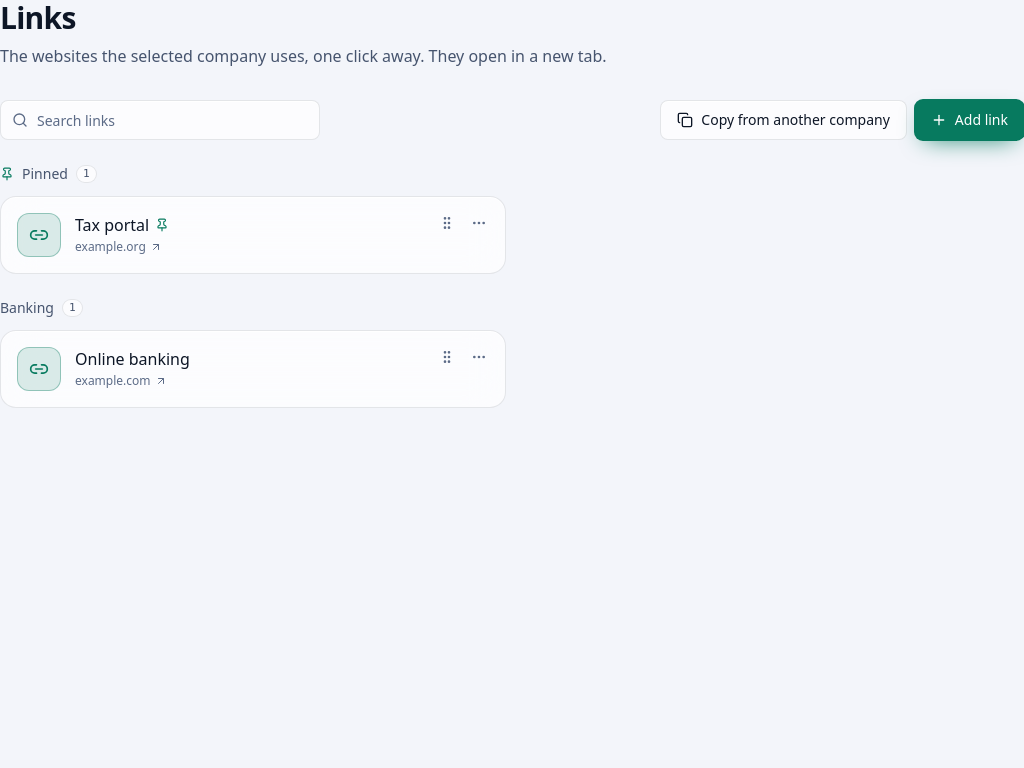
Test case: copying from another company › offers nothing to copy when every address is already here
Expected: the text "Tax portal" is shown, [75,213,149,237]
Click the button "Copy from another company" at (784, 120), box [660,100,907,140]
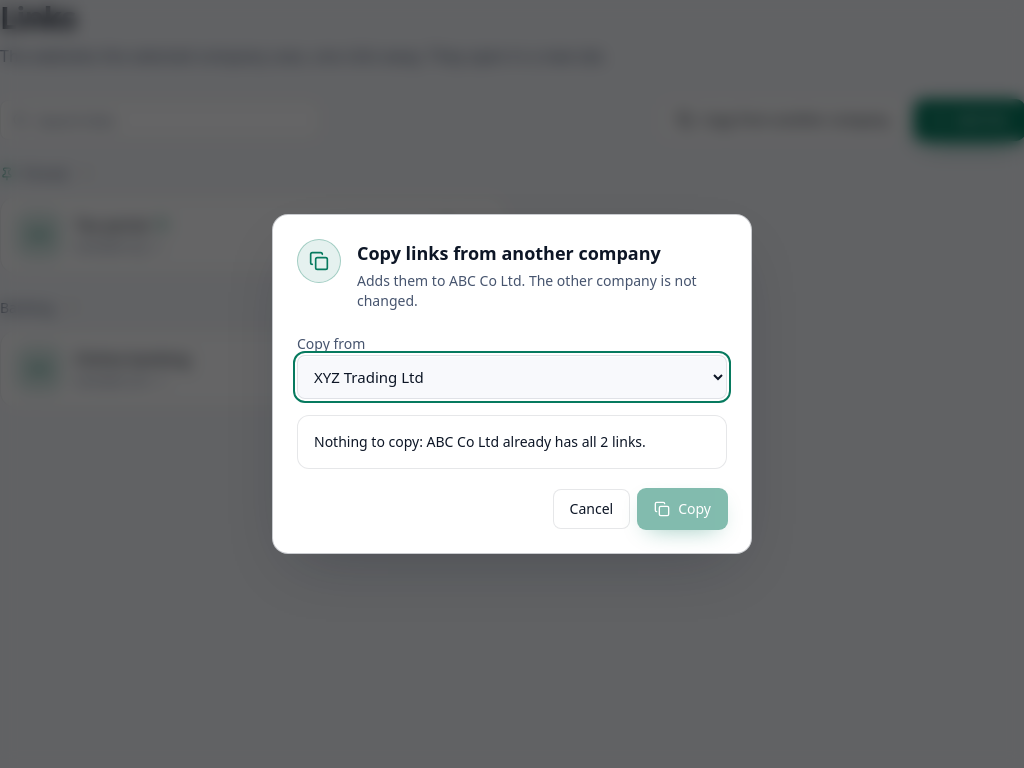
Expected: the text "Nothing to copy: ABC Co Ltd already has all 2 links." is shown, [314,432,646,451]
Expected: the button "Copy" is disabled, [638,489,727,529]
